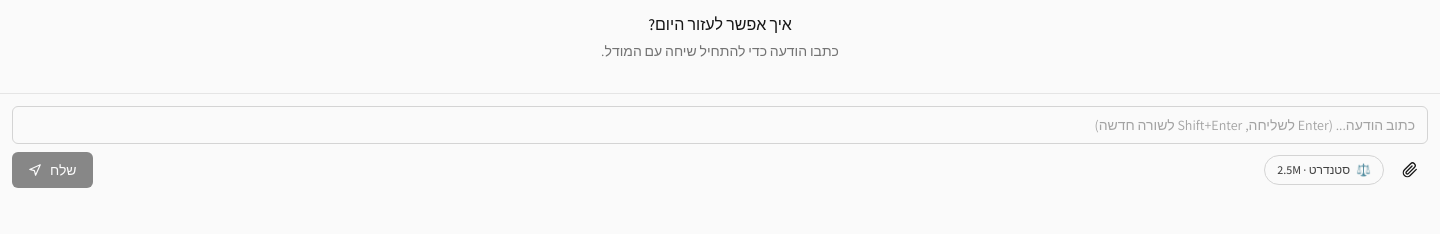
Test: ChatView stop / run control (UX.md §2 + §9, P9-T11) › a run.finished with status 'stopped' shows the partial-answer notice and re-enables the composer
Type "hello" into the text box at (720, 125), box [12,106,1428,144]
Then press Enter
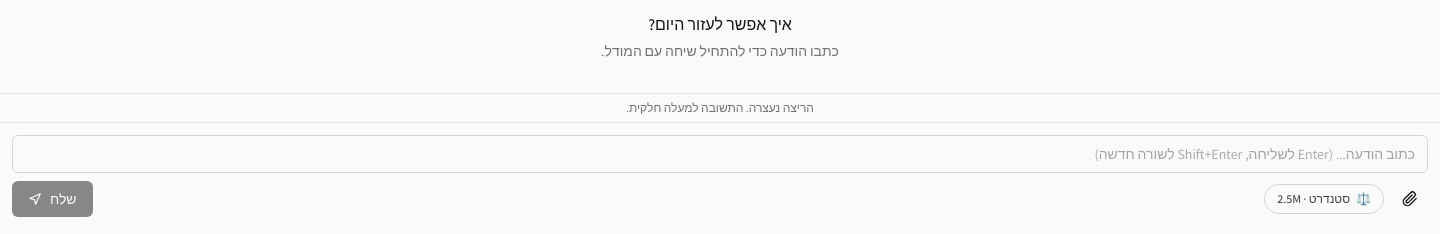
Expected: the button "שלח" is shown, [12,181,93,217]
Now the text "הריצה נעצרה. התשובה למעלה חלקית." is shown, box [0,93,1439,122]
